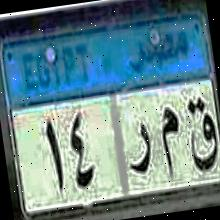1: (36, 109, 70, 198)
4: (63, 105, 99, 192)
meem: (151, 99, 189, 185)
qaaf: (181, 91, 220, 178)
raa: (123, 114, 158, 186)
